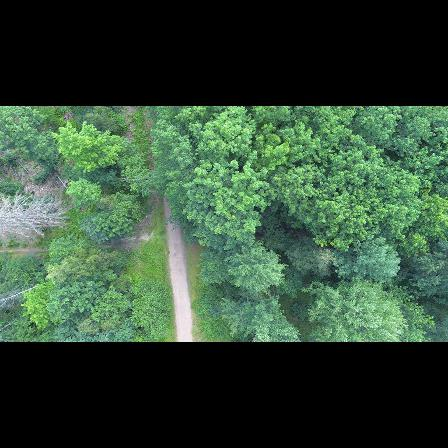Dead: (0, 191, 73, 237), (0, 278, 49, 311)
